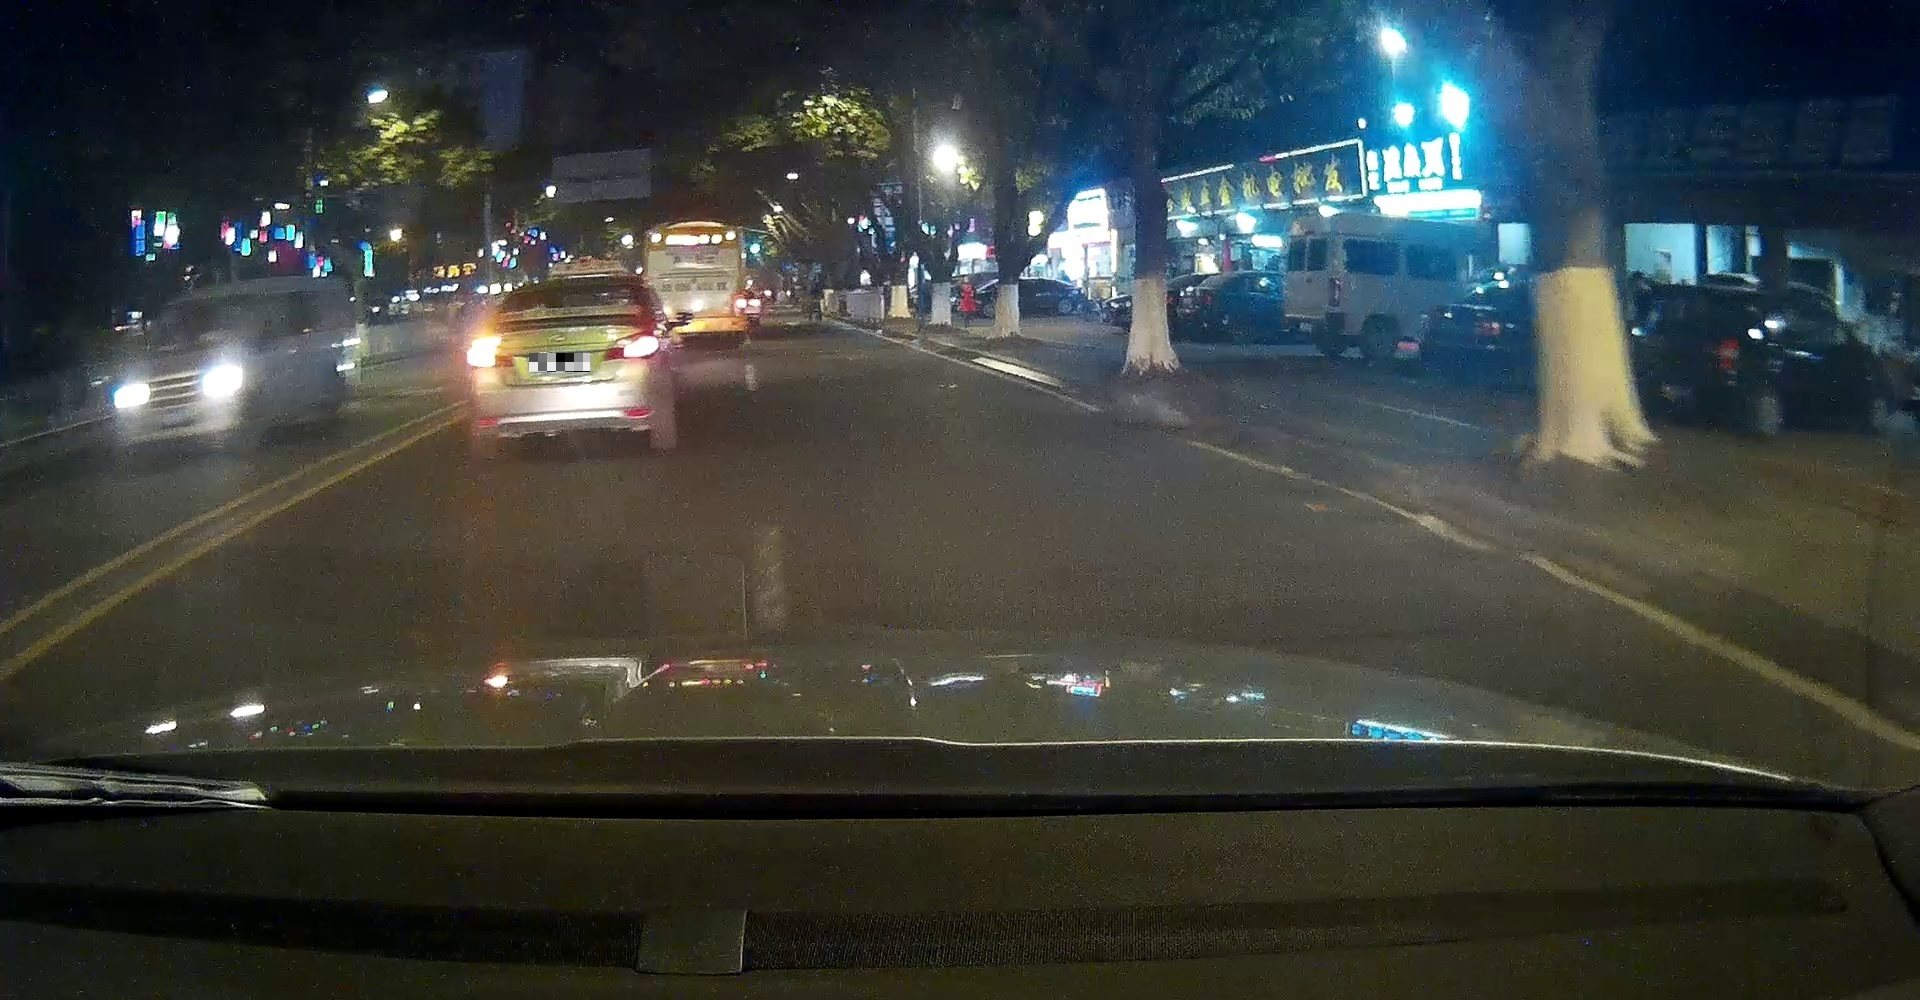L_light: (466, 332, 502, 371)
R_light: (601, 327, 662, 360)
T_light: (546, 280, 582, 288)
night-left: (465, 273, 672, 462)
plate_1: (530, 353, 590, 372)
